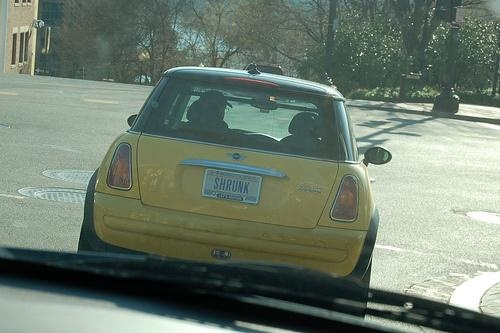car: (75, 63, 394, 320)
